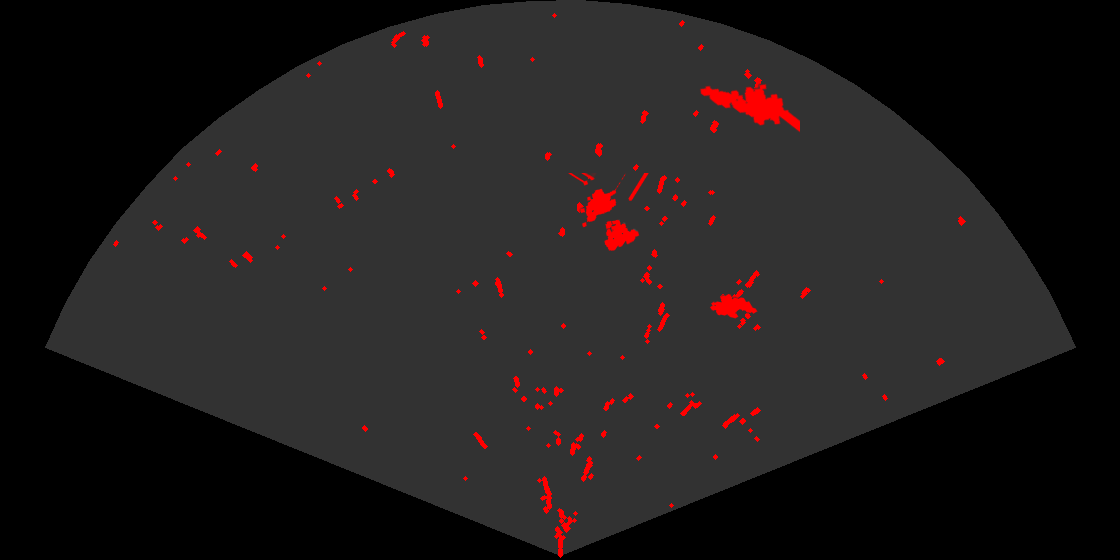AUV: (708, 292, 759, 320)
cage: (567, 173, 650, 252)
frogman: (698, 82, 800, 134)
